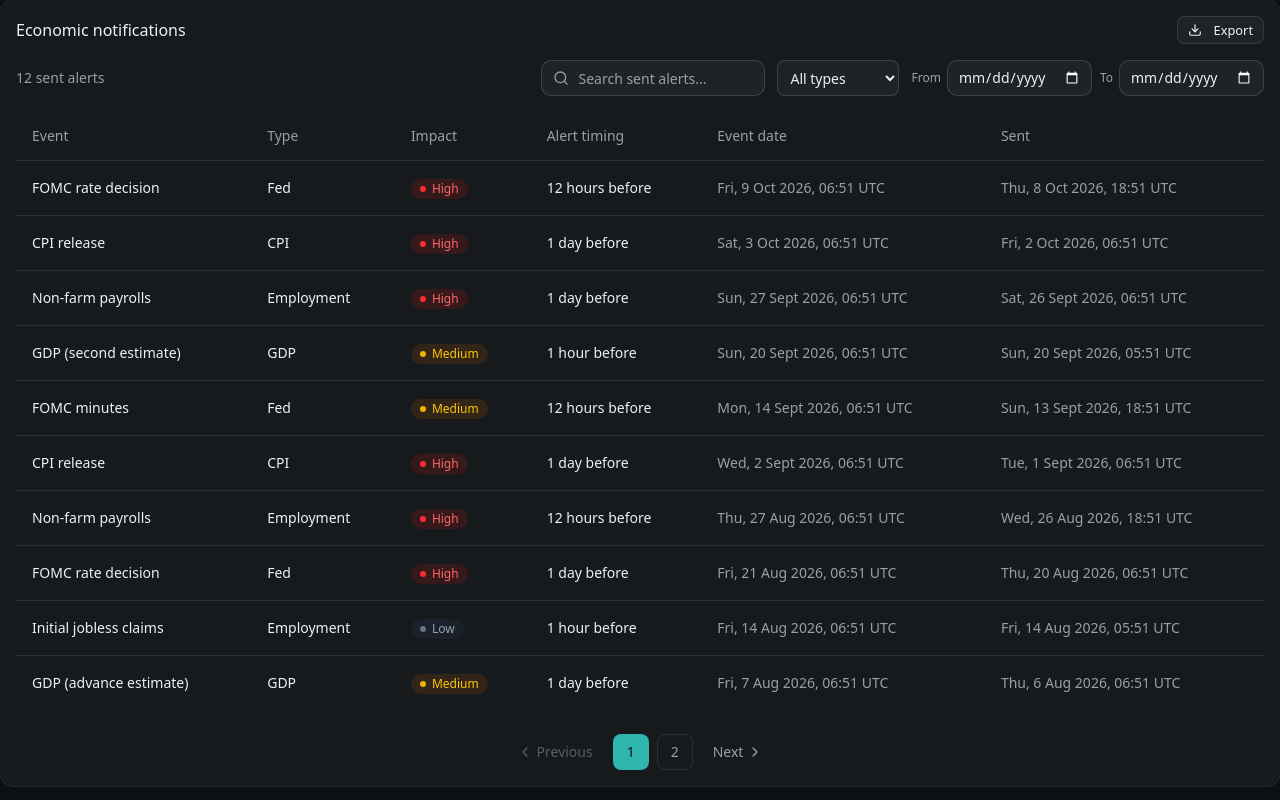
Test: MacroAlertHistory › distinguishes no matches from no history
Type "no such alert" into the field with placeholder "Search sent alerts..." at {"x": 654, "y": 78}, box [542,60,766,96]
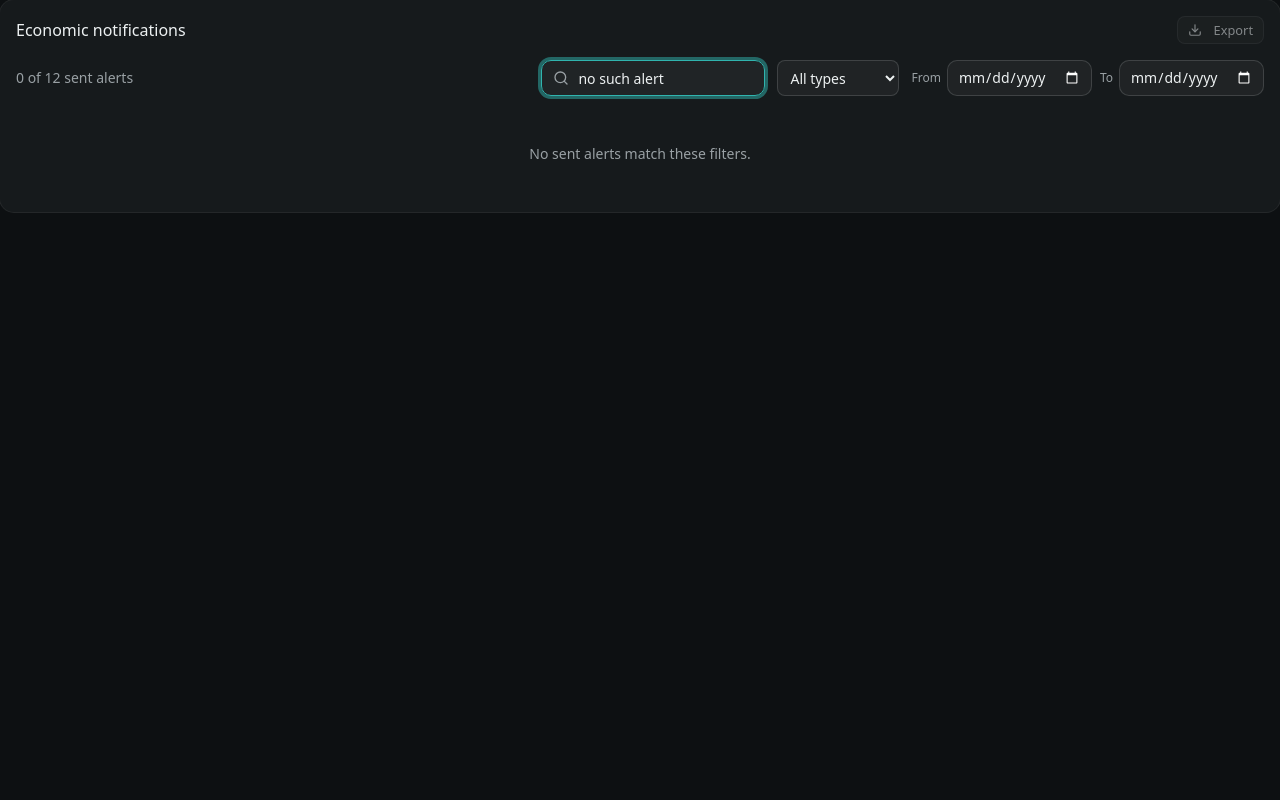
Expected: the text "No sent alerts match these filters." is shown, [529,144,751,163]
